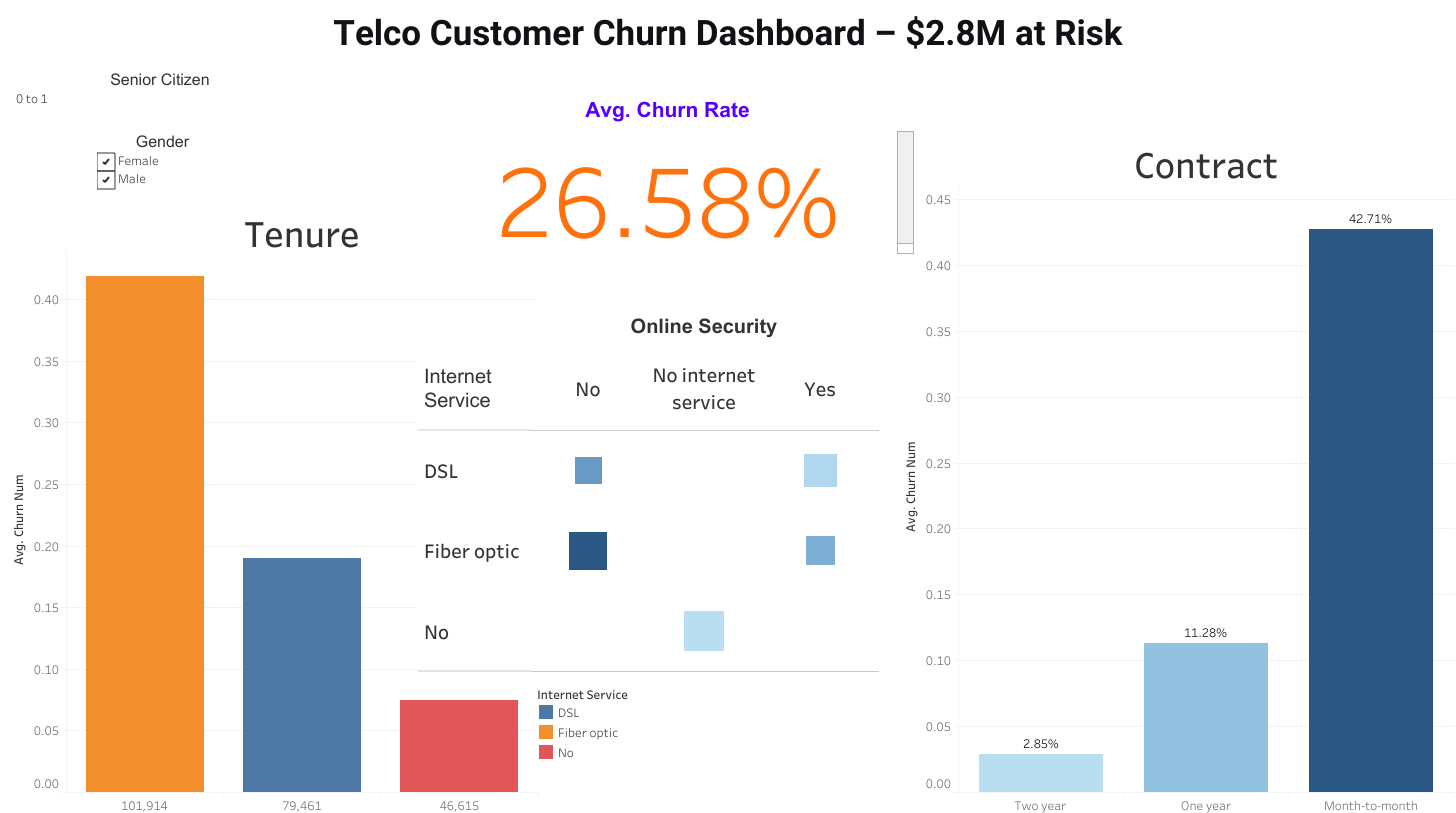

This screenshot's page, from the dashboard's own definition file:
{"tool":"tableau","page":{"name":"Dashboard 1","canvas":[1000,1000],"units":"permille","ordinal":0},"visuals":[{"type":"title","box":[4.8,8.8,990.4,60.8]},{"type":"filter","title":"Sheet 1","param":"[federated.0g3ss2r17w7v8y11tkp0v0ijn3h9].[none:SeniorCitizen:qk]","box":[9,85.2,202,76.3]},{"type":"worksheet","title":"Sheet 1","mark":"Automatic","box":[301.3,111.7,326.4,199.1]},{"type":"filter","title":"Sheet 4","param":"[federated.0g3ss2r17w7v8y11tkp0v0ijn3h9].[Action (Gender)]","box":[66.3,161.5,90.9,104]},{"type":"worksheet","title":"Sheet 2","mark":"Automatic","rows":["Churn_Num"],"cols":["Contract"],"box":[613.3,175.9,384.3,824.1]},{"type":"worksheet","title":"Sheet 3","mark":"Automatic","rows":["Churn_Num"],"cols":["tenure"],"box":[1.2,263.3,368.2,736.7]},{"type":"worksheet","title":"Sheet 4","mark":"Automatic","rows":["InternetService"],"cols":["OnlineSecurity"],"box":[286.9,376.1,316.2,449.1]},{"type":"legend","title":"Sheet 3","param":"[federated.0g3ss2r17w7v8y11tkp0v0ijn3h9].[none:InternetService:nk]","box":[368.2,839.6,85.5,115]}]}

Visuals, with their boxes on the dashboard's canvas, which has no fixed pixel size, in thousandths of its width and height (x1, y1, x2, y2). These are canvas units, not pixel positions in the 1456x813 screenshot, which may show the page scaled, cropped or inside an application window:
title: bbox(5, 9, 995, 70)
"Sheet 1" filter: bbox(9, 85, 211, 162)
"Sheet 1" worksheet: bbox(301, 112, 628, 311)
"Sheet 4" filter: bbox(66, 162, 157, 266)
"Sheet 2" worksheet: bbox(613, 176, 998, 1000)
"Sheet 3" worksheet: bbox(1, 263, 369, 1000)
"Sheet 4" worksheet: bbox(287, 376, 603, 825)
"Sheet 3" legend: bbox(368, 840, 454, 955)
